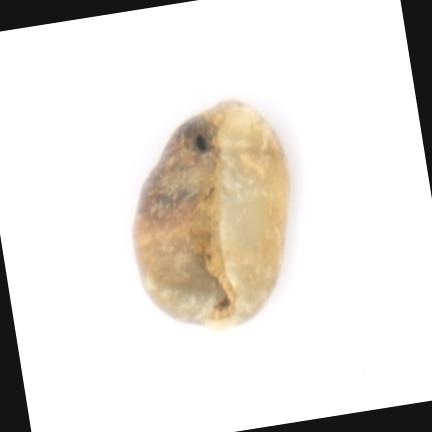partial-black: (133, 101, 289, 326)
